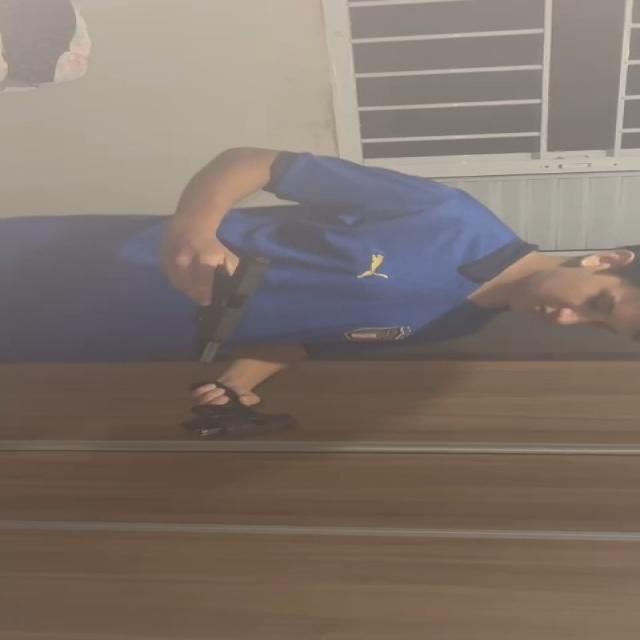gun: (187, 256, 276, 364), (176, 382, 296, 439)
